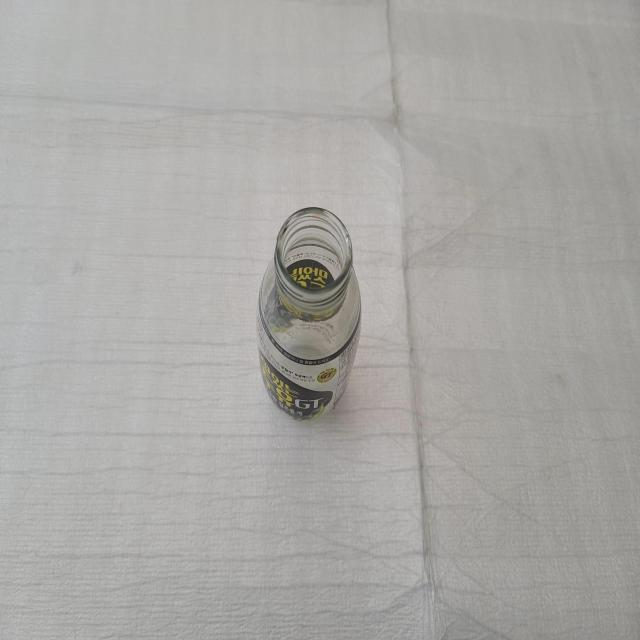glass: (257, 207, 361, 420)
